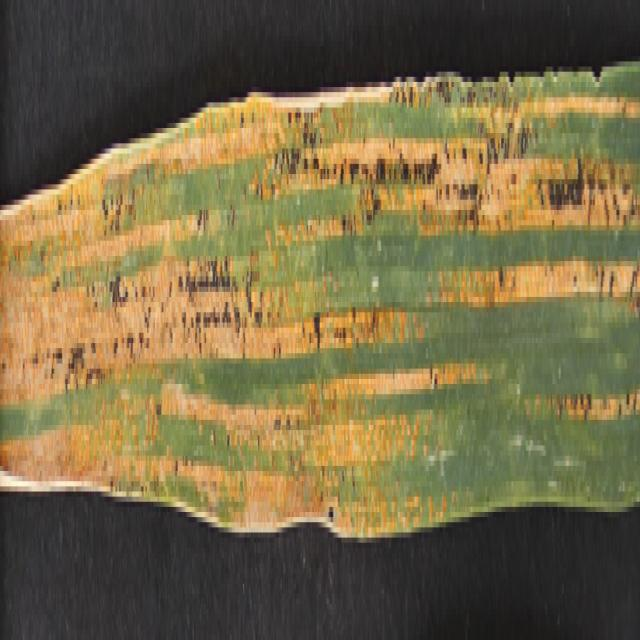leaf rust: (1, 66, 639, 507)
